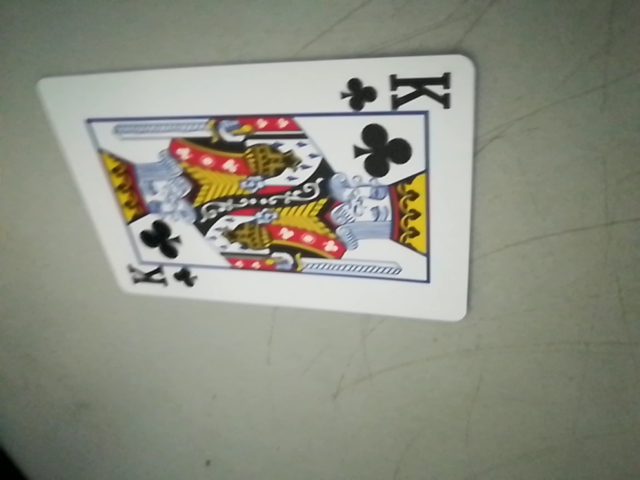mh k: (339, 68, 457, 114), (120, 261, 199, 296)
